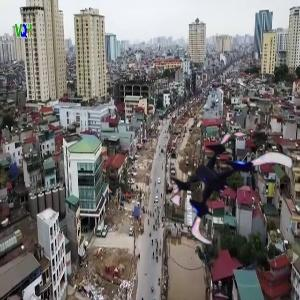drone: (160, 126, 284, 250)
